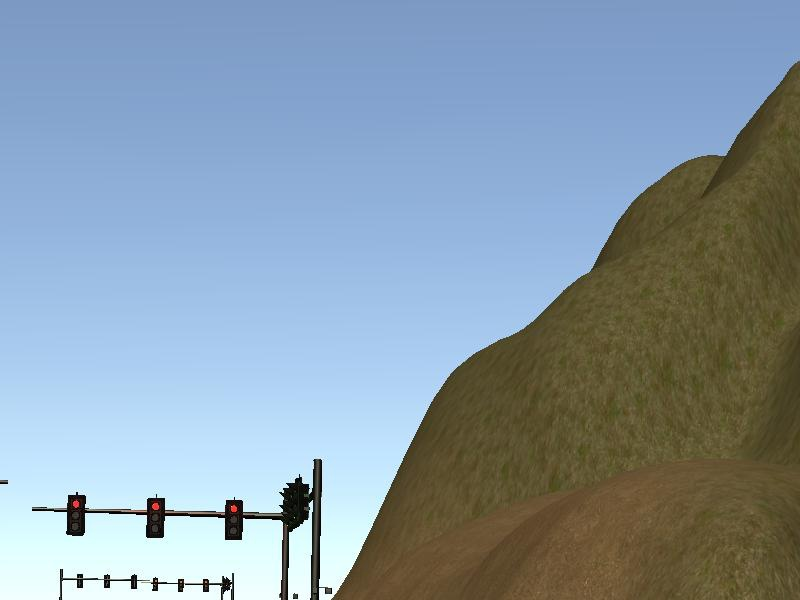Red: (224, 499, 245, 541), (146, 497, 167, 539), (66, 495, 87, 537)
